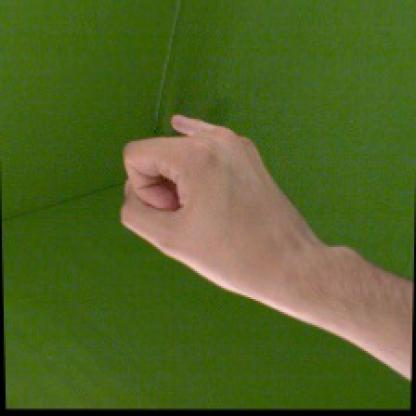Hand: (119, 113, 328, 314)
